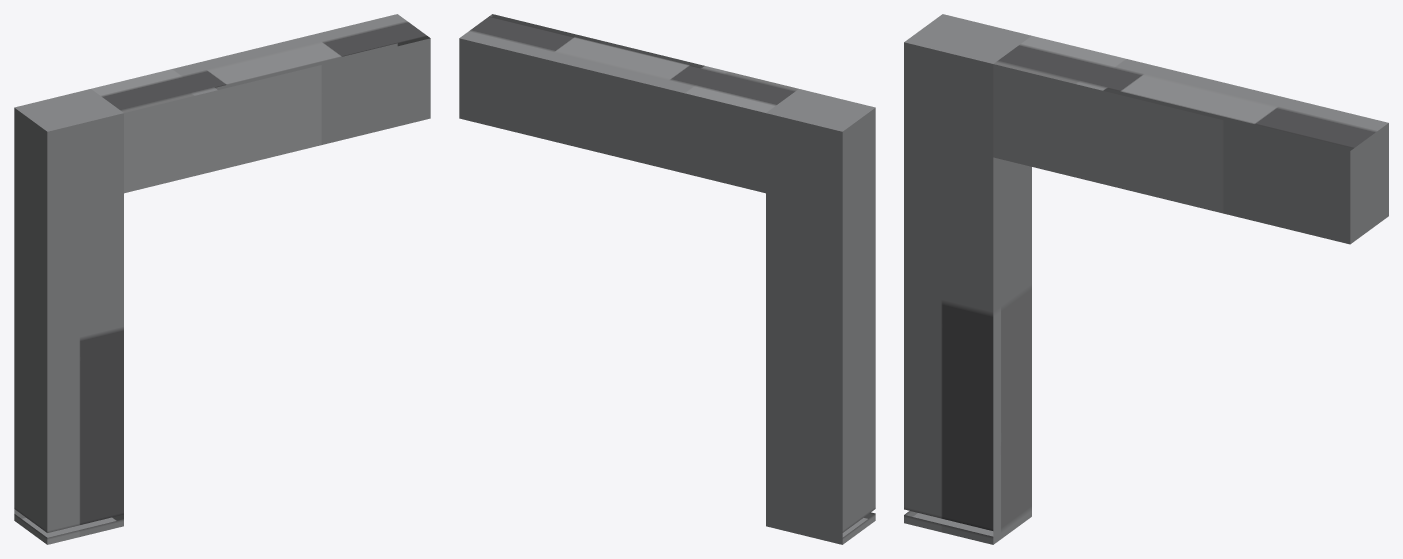
The picture shows the model from 3 angles, left to right: view 1: azimuth 30°, elevation 25°; view 2: azimuth 150°, elevation 25°; view 3: azimuth 330°, elevation 25°; orthographic projection. The views are drawn at different scales.
Bounding box in the file's own units: 1 × 1.03 × 0.15.
